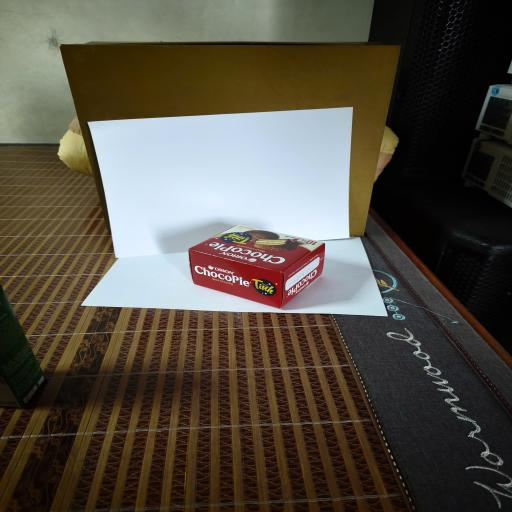chocopie: (188, 224, 325, 310)
